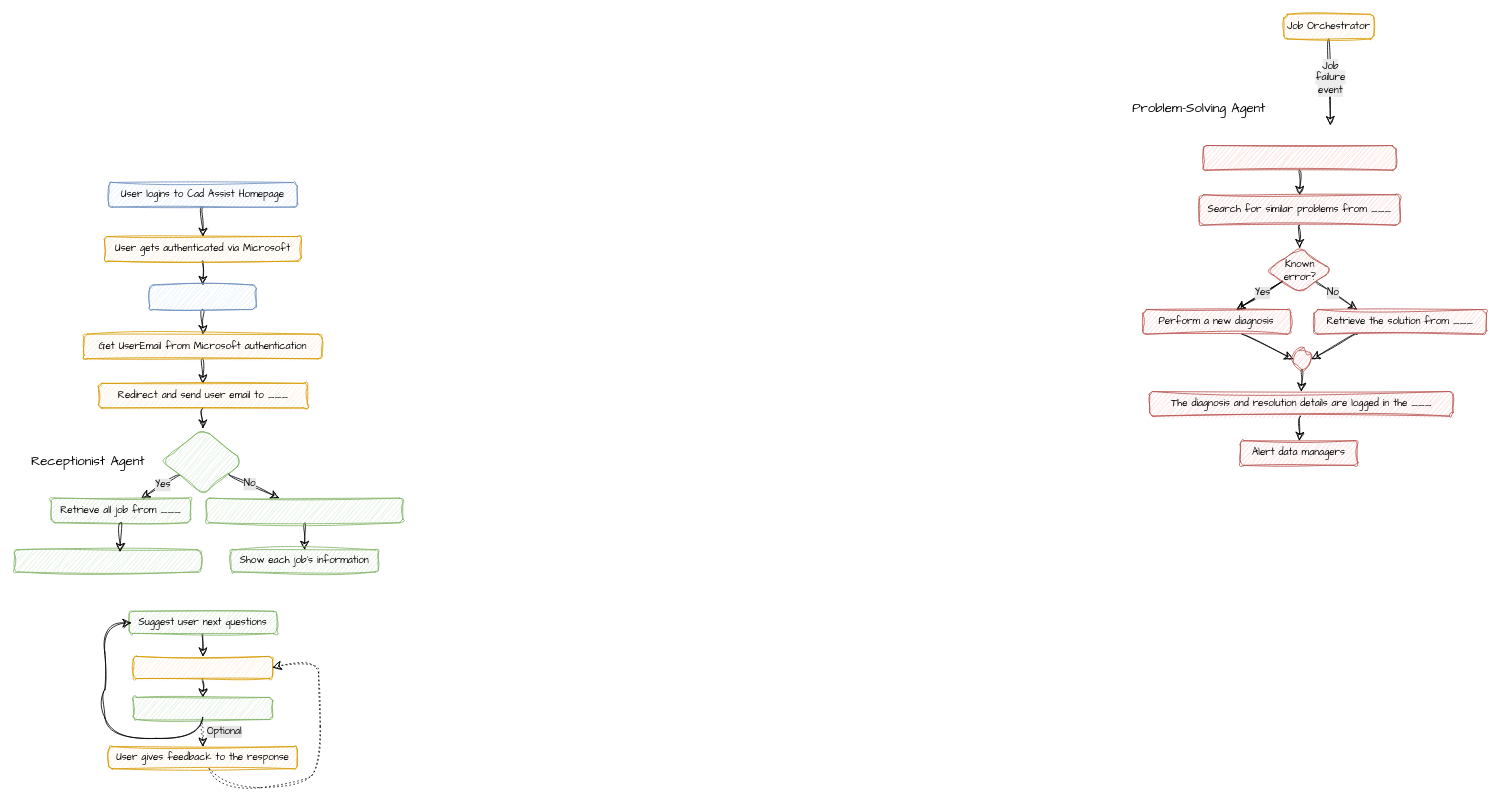
This 1501x803 diagram has some shape labels left out. The centre of each missing label's shape, as x and y in pixels:
"Get triggered by job failure event" belongs at [1299,157].
"Is data management team?" belongs at [202,461].
"Response user's question" belongs at [202,708].
"Retrieve all user related job from ___" belongs at [304,510].
"Show each job's information in detail" belongs at [107,560].
"User asks question" belongs at [202,667].
"User selects a cat" belongs at [202,297].
